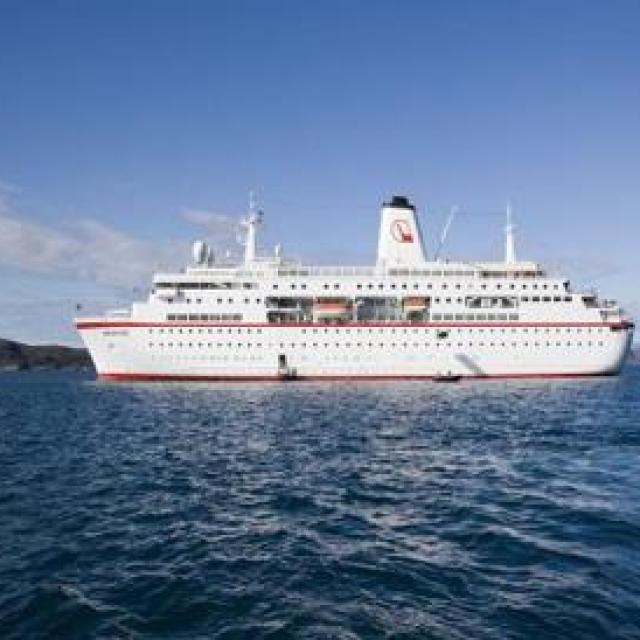passenger ship: (79, 193, 632, 381)
